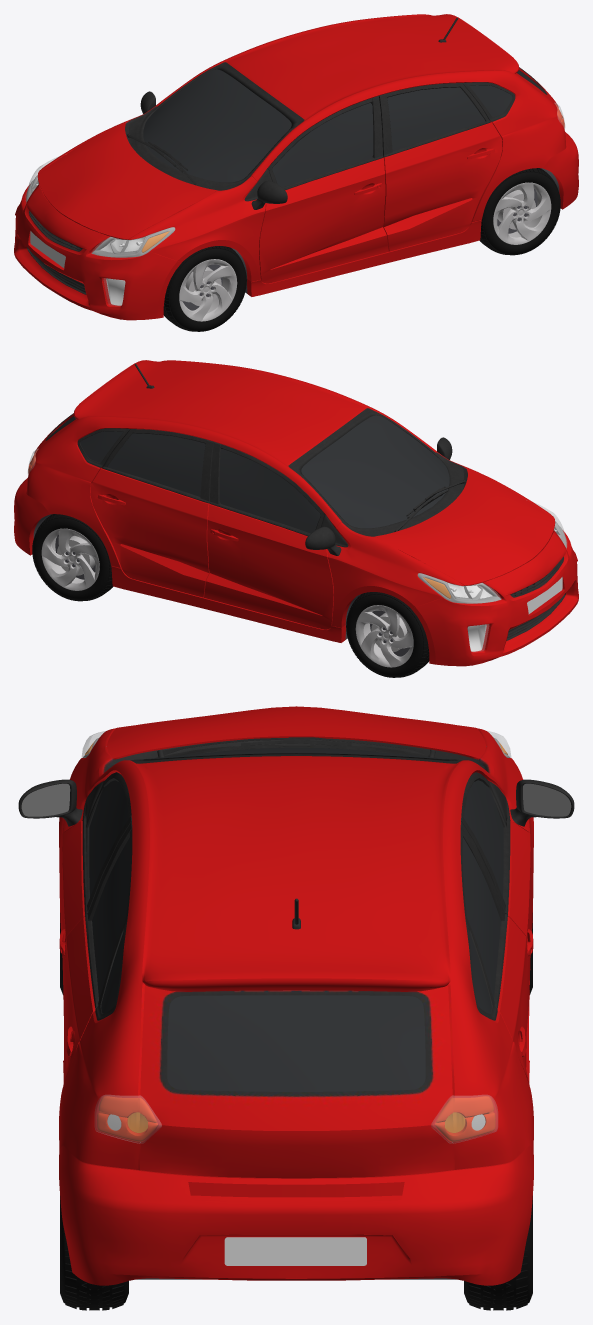
File: car_1.glb
The picture shows the model from 3 angles, top to bottom: view 1: azimuth 30°, elevation 25°; view 2: azimuth 150°, elevation 25°; view 3: azimuth 270°, elevation 25°; orthographic projection. The views are drawn at different scales.
Visible parts, largest first — view 1: chassis_hi_001, door_lf_ok_001, door_lr_ok_001, Wheel.001, window_001, window_001.001, front_la02_001, Side Mirrors_001, Cube.003, chassis_hi_001.001; view 2: chassis_hi_001, door_lf_ok_001, door_lr_ok_001, Wheel.001, window_001, window_001.001, front_la02_001, Side Mirrors_001, Cube.003, chassis_hi_001.001; view 3: chassis_hi_001, window_001, window_001.001, door_lr_ok_001, door_lf_ok_001, rear_lan01_001.001, Wheel.001, rear_lan01_001.002, Plate Holder_001.001, Plane, Side Mirrors_001, Cylinder.002.
Boxes of the visible parts, <box> form: chassis_hi_001: <box>14,14,578,320</box>; door_lf_ok_001: <box>259,96,388,283</box>; door_lr_ok_001: <box>379,83,502,251</box>; Wheel.001: <box>163,168,560,331</box>; window_001: <box>143,69,545,182</box>; window_001.001: <box>272,85,512,187</box>; front_la02_001: <box>25,156,174,257</box>; Side Mirrors_001: <box>140,91,287,209</box>; Cube.003: <box>26,179,175,257</box>; chassis_hi_001.001: <box>104,278,124,305</box>; chassis_hi_001: <box>14,360,578,666</box>; door_lf_ok_001: <box>204,442,333,629</box>; door_lr_ok_001: <box>90,429,213,597</box>; Wheel.001: <box>32,514,429,677</box>; window_001: <box>47,415,449,528</box>; window_001.001: <box>80,431,320,533</box>; front_la02_001: <box>418,502,567,603</box>; Side Mirrors_001: <box>305,437,452,555</box>; Cube.003: <box>417,525,566,603</box>; chassis_hi_001.001: <box>468,624,488,651</box>; chassis_hi_001: <box>59,706,533,1285</box>; window_001: <box>143,747,449,1091</box>; window_001.001: <box>89,780,503,1013</box>; door_lr_ok_001: <box>63,822,529,1085</box>; door_lf_ok_001: <box>59,772,533,1059</box>; rear_lan01_001.001: <box>95,1095,497,1143</box>; Wheel.001: <box>60,913,532,1310</box>; rear_lan01_001.002: <box>97,1096,495,1141</box>; Plate Holder_001.001: <box>224,1237,366,1265</box>; Plane: <box>21,783,571,816</box>; Side Mirrors_001: <box>18,779,574,826</box>; Cylinder.002: <box>157,738,371,757</box>.
Size of the model in its own units: 451 by 171 by 218.
10 materials, 1 textured.
